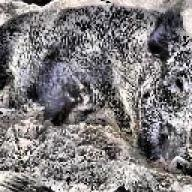boar: (0, 1, 192, 177)
